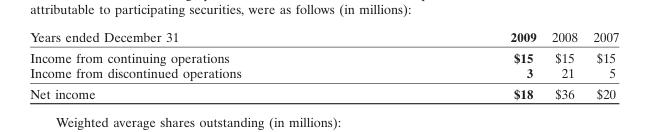table: (29, 28, 618, 101)
table column: (29, 28, 375, 101), (375, 28, 543, 101), (543, 28, 584, 101), (584, 28, 618, 101)
table column header: (29, 28, 618, 46)
table row: (29, 46, 618, 65), (29, 28, 618, 46), (29, 65, 618, 83), (29, 83, 618, 101)
